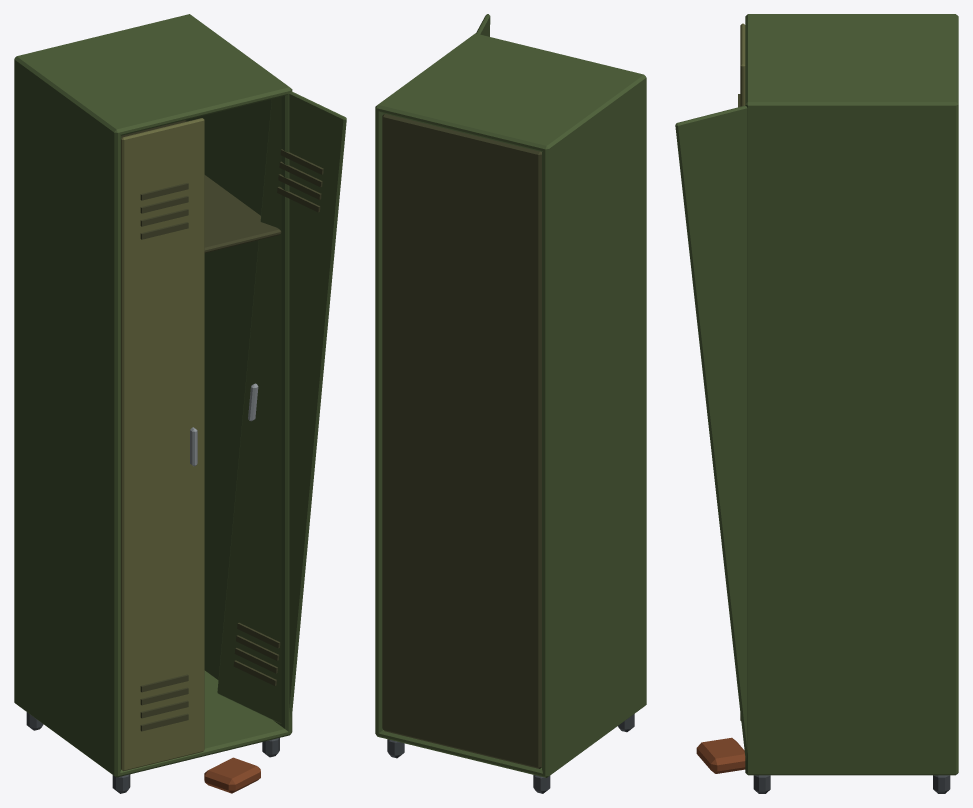
File: locker_metal_armeyskiy_broken.glb
3 views of the same model, side by side, from view 1: azimuth 30°, elevation 25°; view 2: azimuth 150°, elevation 25°; view 3: azimuth 270°, elevation 25° (orthographic). The views are drawn at different scales.
Parts seen in each view (by area): view 1: locker_metal_armeyskiy_broken; view 2: locker_metal_armeyskiy_broken; view 3: locker_metal_armeyskiy_broken.
Part boxes in pixels (x1=…): locker_metal_armeyskiy_broken: x1=14, y1=14, x2=346, y2=793; locker_metal_armeyskiy_broken: x1=375, y1=14, x2=646, y2=793; locker_metal_armeyskiy_broken: x1=675, y1=14, x2=958, y2=793.
Size of the model in its own units: 0.5583 by 1.8 by 0.6638.
Materials: 1 (1 with a texture image).
